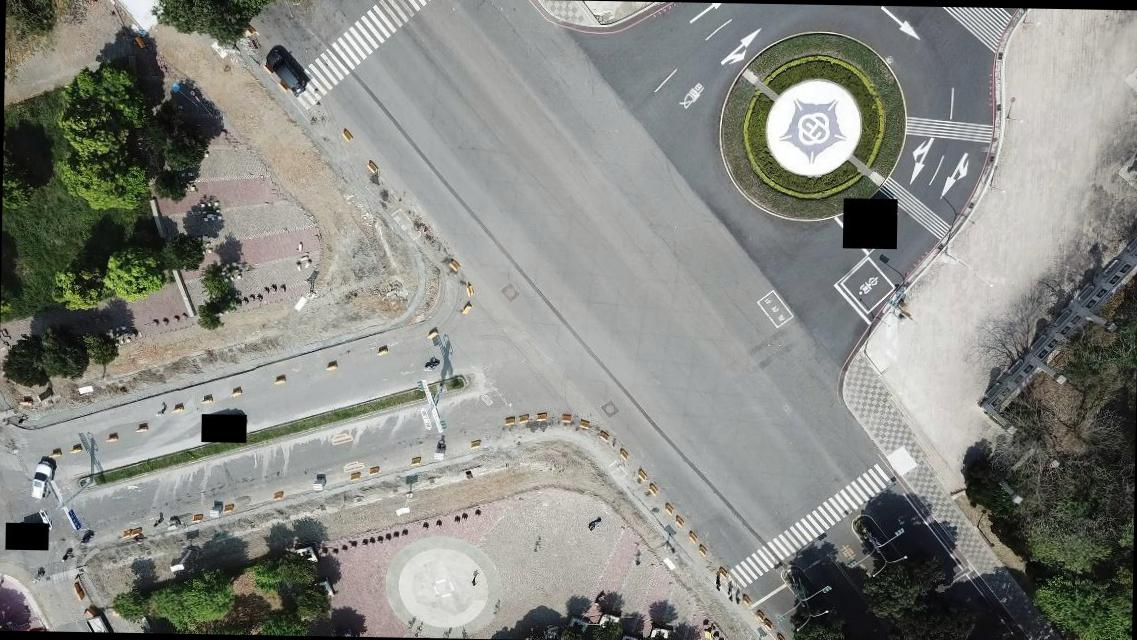vehicle: (264, 48, 307, 96), (29, 460, 56, 499)
